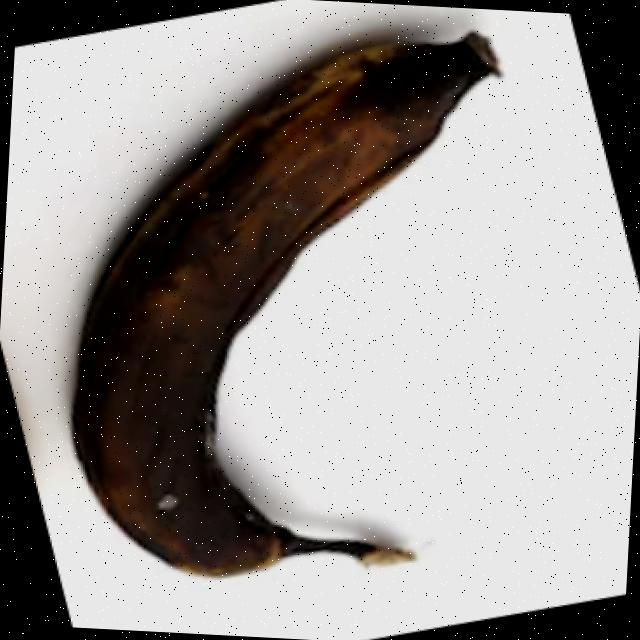Rotten: (61, 9, 504, 598)
